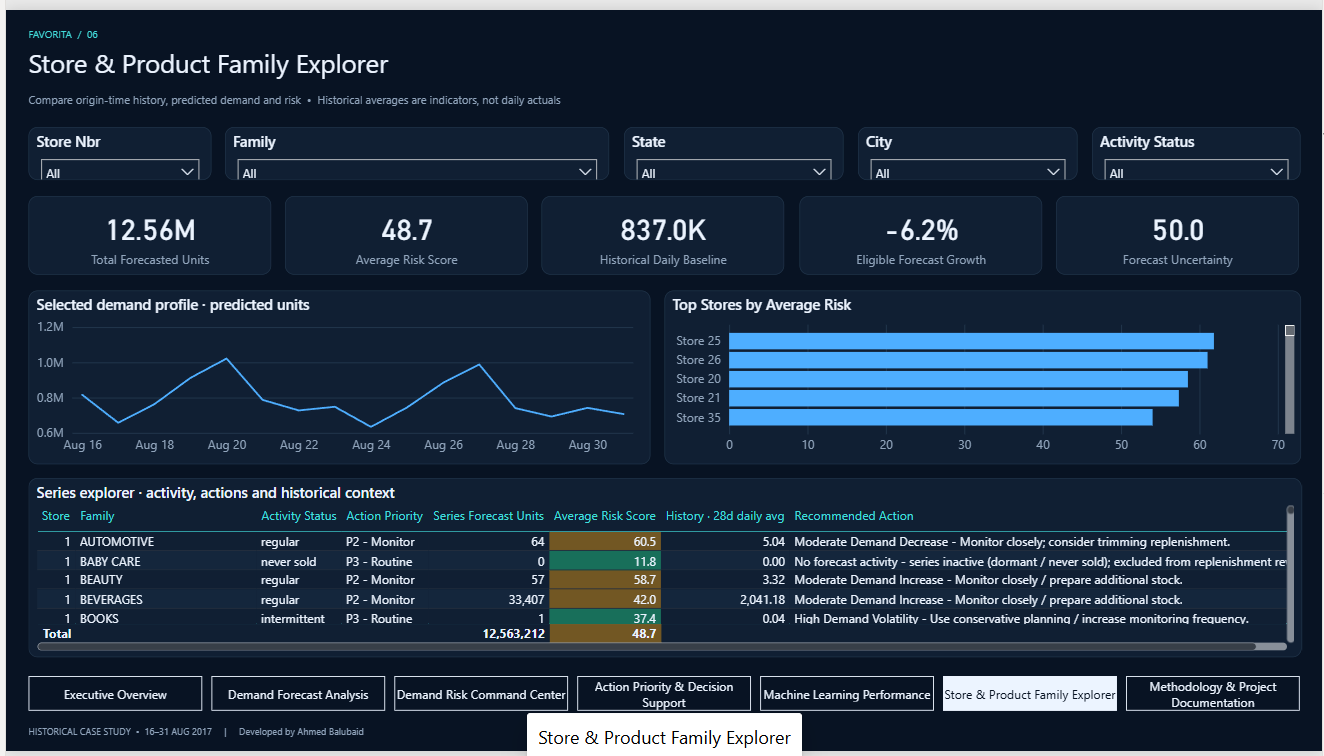

Layout of this report page (visuals, bound fields, positions):
{"tool":"powerbi","page":{"name":"Store & Product Family Explorer","canvas":[1440,810],"ordinal":5},"visuals":[{"type":"textbox","box":[24,14,300,24],"z":81},{"type":"textbox","box":[24,40,1370,44],"z":82},{"type":"textbox","box":[24,87,1370,30],"z":83},{"type":"textbox","box":[24,777,1040,22],"z":84},{"type":"pageNavigator","box":[24,729,1392,38],"z":85},{"type":"slicer","title":"Store Nbr","fields":{"Values":["DimStore.store_nbr"]},"box":[24,128,200,58],"z":86},{"type":"slicer","title":"Family","fields":{"Values":["DimFamily.family"]},"box":[240,128,420,58],"z":87},{"type":"slicer","title":"State","fields":{"Values":["DimStore.state"]},"box":[676,128,240,58],"z":88},{"type":"slicer","title":"City","fields":{"Values":["DimStore.city"]},"box":[932,128,240,58],"z":89},{"type":"slicer","title":"Activity Status","fields":{"Values":["DimSeries.activity_status"]},"box":[1188,128,228,58],"z":90},{"type":"card","fields":{"Values":["FactForecast.Total Forecasted Units"]},"box":[24,204,265,86],"z":91},{"type":"card","fields":{"Values":["FactForecast.Average Risk Score"]},"box":[305,204,265,86],"z":92},{"type":"card","fields":{"Values":["FactForecast.Historical Daily Baseline"]},"box":[586,204,265,86],"z":93},{"type":"card","fields":{"Values":["FactForecast.Eligible Forecast Growth"]},"box":[867,204,265,86],"z":94},{"type":"card","fields":{"Values":["FactForecast.Forecast Uncertainty"]},"box":[1148,204,265,86],"z":95},{"type":"lineChart","title":"Selected demand profile · predicted units","fields":{"Category":["DimDate.date"],"Y":["FactForecast.Total Forecasted Units"]},"box":[24,306,680,190],"z":96},{"type":"clusteredBarChart","title":"Top Stores by Average Risk","fields":{"Category":["DimStore.store_label"],"Y":["FactForecast.Average Risk Score"]},"box":[720,306,696,190],"z":97},{"type":"tableEx","title":"Series explorer · activity, actions and historical context","fields":{"Values":["DimStore.store_nbr","DimFamily.family","DimSeries.activity_status","DimPriority.action_priority","FactForecast.Series Forecast Units","FactForecast.Average Risk Score","FactInventoryRisk.historical_28d_avg","FactInventoryRisk.recommended_action"]},"box":[24,512,1392,196],"z":98}]}

Visuals, with their boxes in screenshot pixels (x1, y1, x2, y2), scaled from the page's 1440x810 canvas onto the 1324x756 screenshot:
textbox: [left=22, top=13, right=298, bottom=35]
textbox: [left=22, top=37, right=1282, bottom=78]
textbox: [left=22, top=81, right=1282, bottom=109]
textbox: [left=22, top=725, right=978, bottom=746]
pageNavigator: [left=22, top=680, right=1302, bottom=716]
"Store Nbr" slicer: [left=22, top=119, right=206, bottom=174]
"Family" slicer: [left=221, top=119, right=607, bottom=174]
"State" slicer: [left=622, top=119, right=842, bottom=174]
"City" slicer: [left=857, top=119, right=1078, bottom=174]
"Activity Status" slicer: [left=1092, top=119, right=1302, bottom=174]
card - FactForecast.Total Forecasted Units: [left=22, top=190, right=266, bottom=271]
card - FactForecast.Average Risk Score: [left=280, top=190, right=524, bottom=271]
card - FactForecast.Historical Daily Baseline: [left=539, top=190, right=782, bottom=271]
card - FactForecast.Eligible Forecast Growth: [left=797, top=190, right=1041, bottom=271]
card - FactForecast.Forecast Uncertainty: [left=1056, top=190, right=1299, bottom=271]
"Selected demand profile · predicted units" lineChart: [left=22, top=286, right=647, bottom=463]
"Top Stores by Average Risk" clusteredBarChart: [left=662, top=286, right=1302, bottom=463]
"Series explorer · activity, actions and historical context" tableEx: [left=22, top=478, right=1302, bottom=661]
